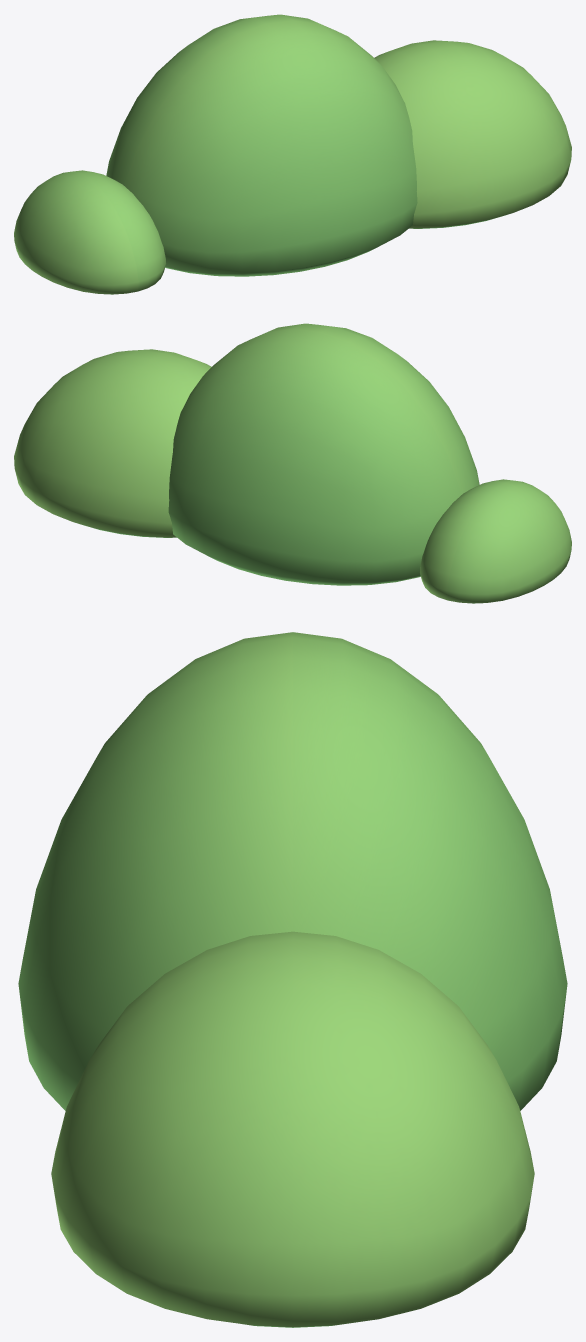
File: SM_Props_Bush.fbx
3 views of the same model, one above another, from view 1: azimuth 30°, elevation 25°; view 2: azimuth 150°, elevation 25°; view 3: azimuth 270°, elevation 25° (orthographic). The views are drawn at different scales.
Parts seen in each view (by area): view 1: Semak; view 2: Semak; view 3: Semak.
Part boxes in pixels (x1,y1,x2,y2): Semak: (14, 14, 571, 294); Semak: (14, 323, 571, 603); Semak: (18, 632, 567, 1327).
Size of the model in its own units: 195 by 71.14 by 88.1.
1 material, 1 textured.
